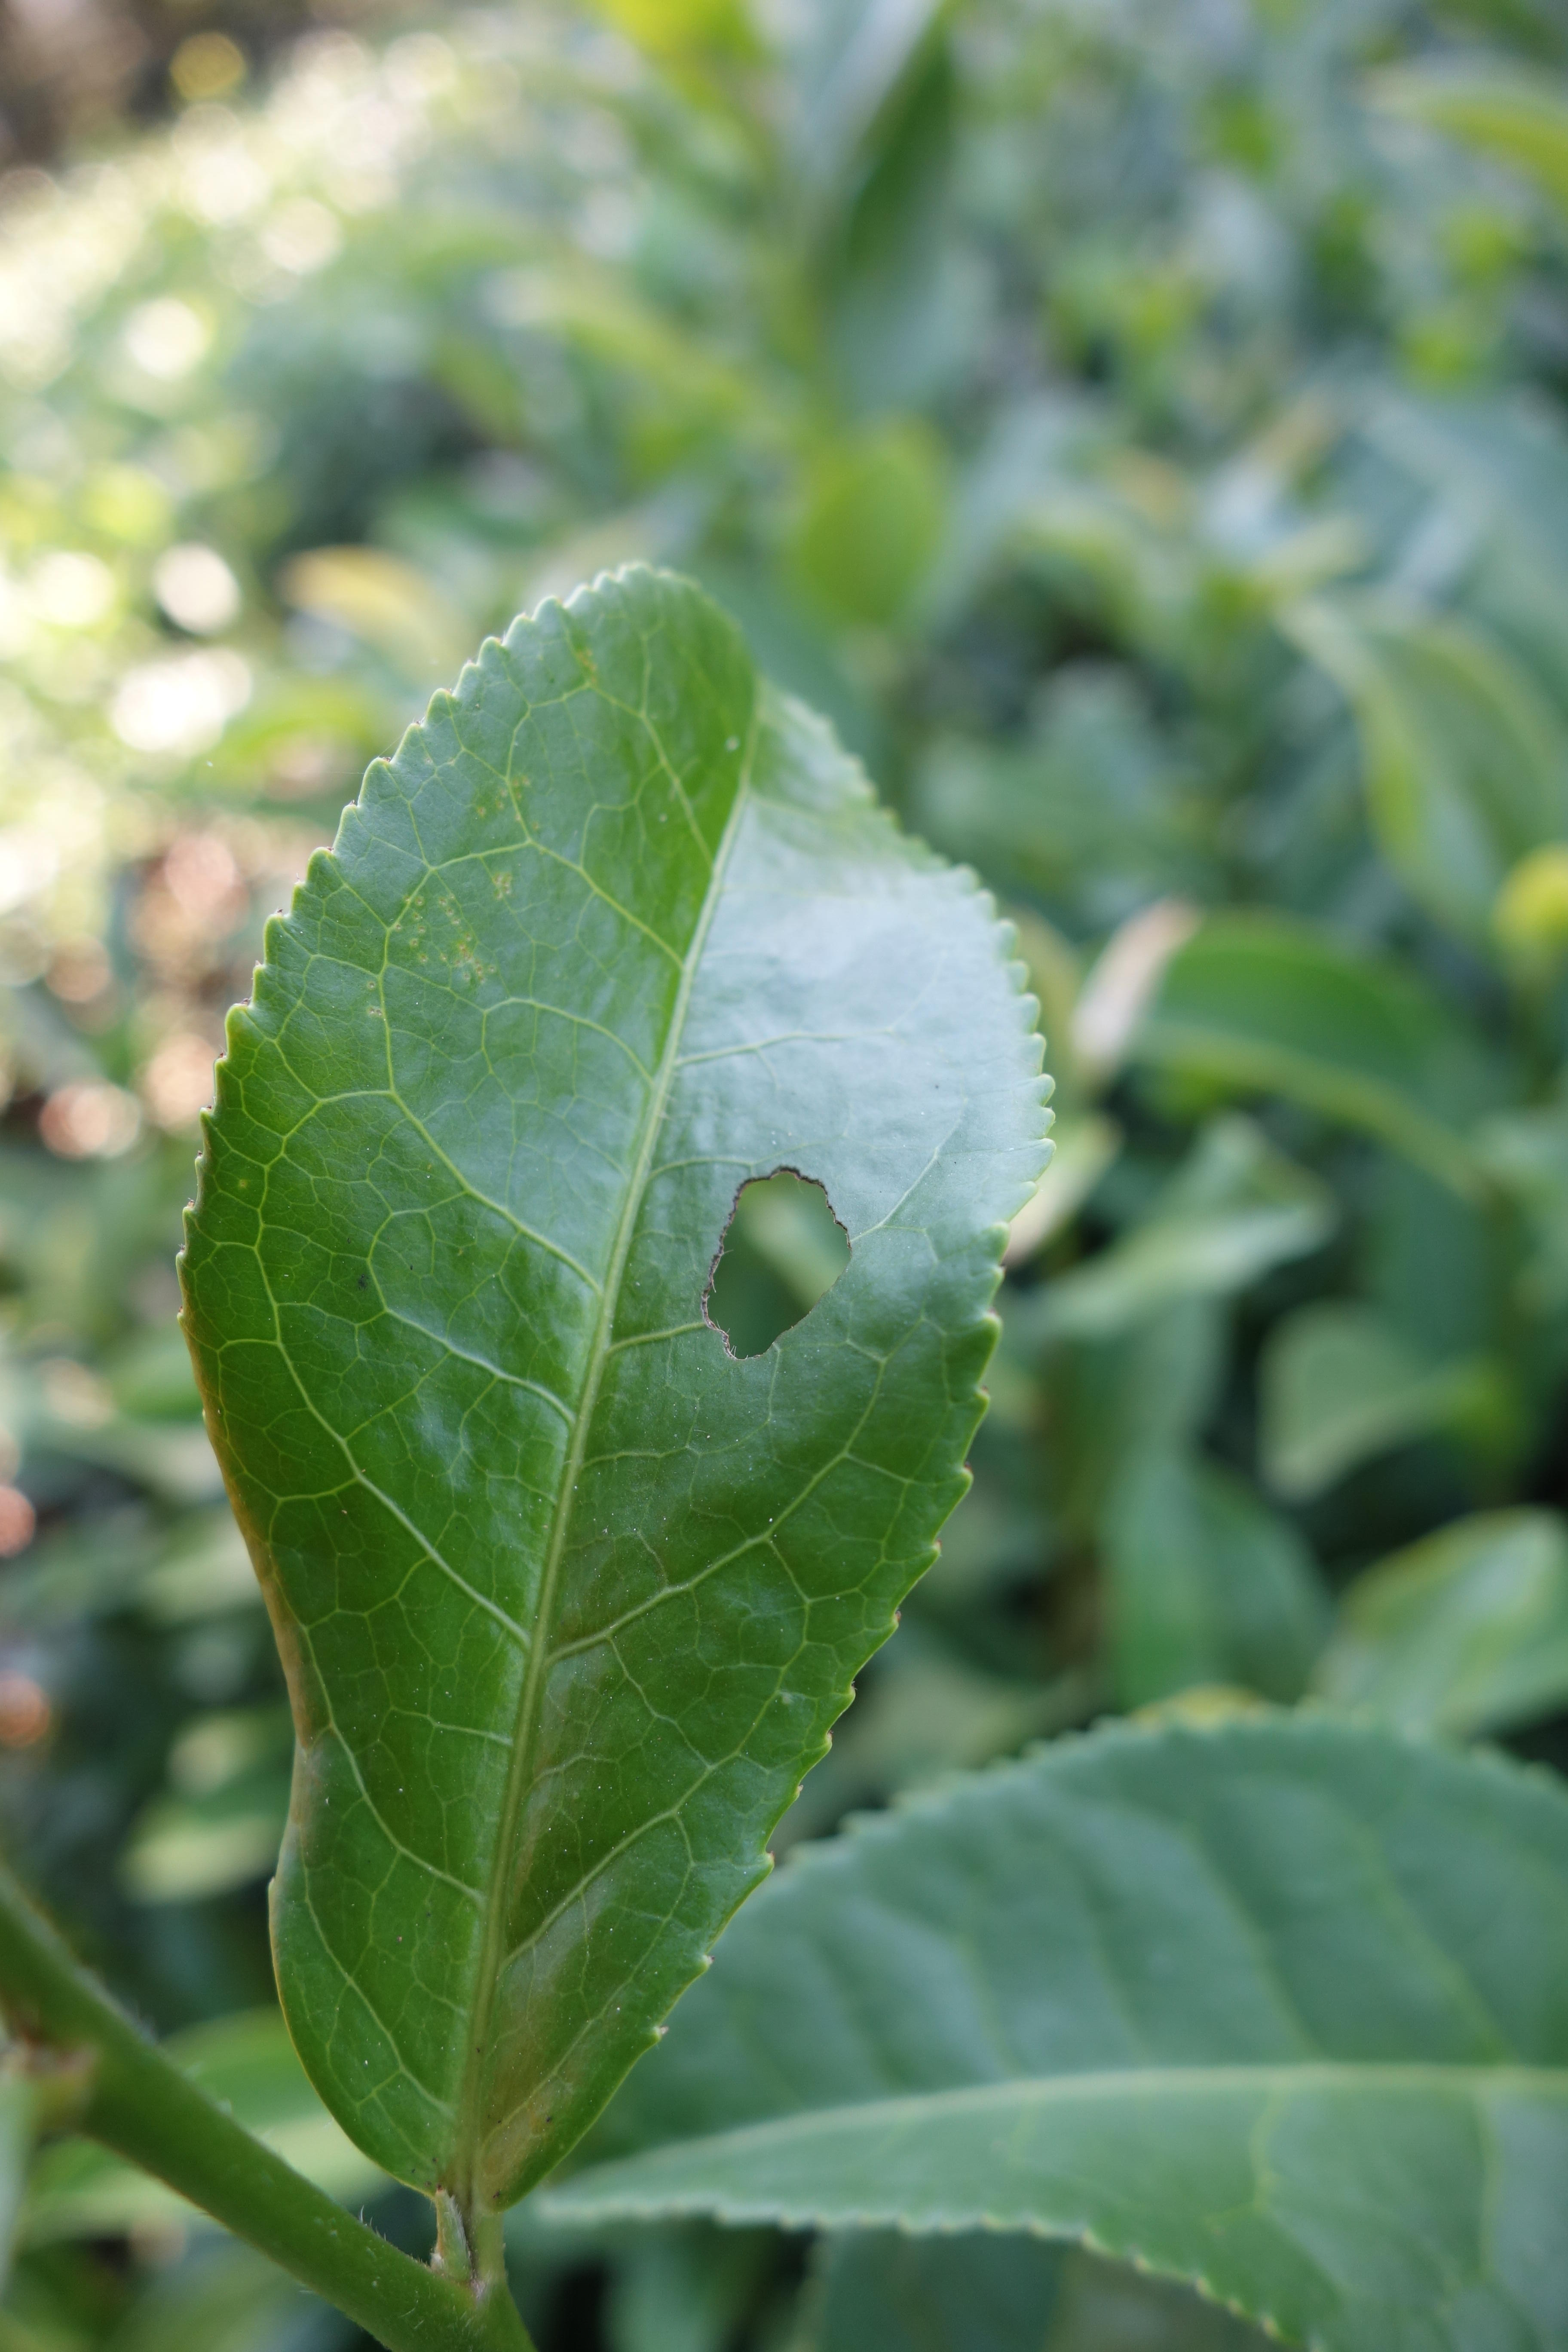chihuo_low: (175, 562, 1059, 2235)
